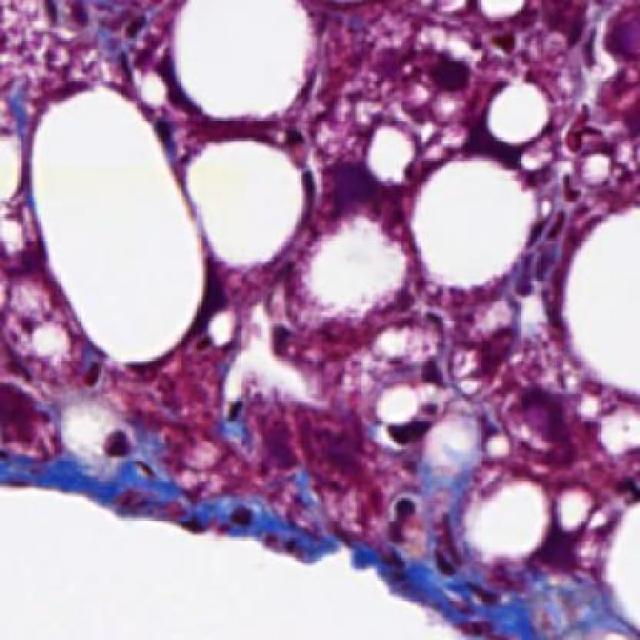inflammation: (366, 40, 477, 103), (446, 323, 529, 392), (377, 412, 438, 457)
